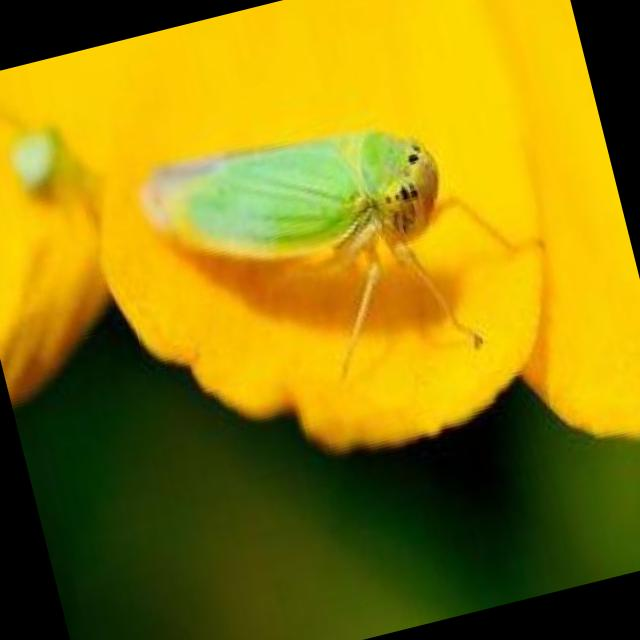green-leafhopper: (132, 128, 546, 396)
